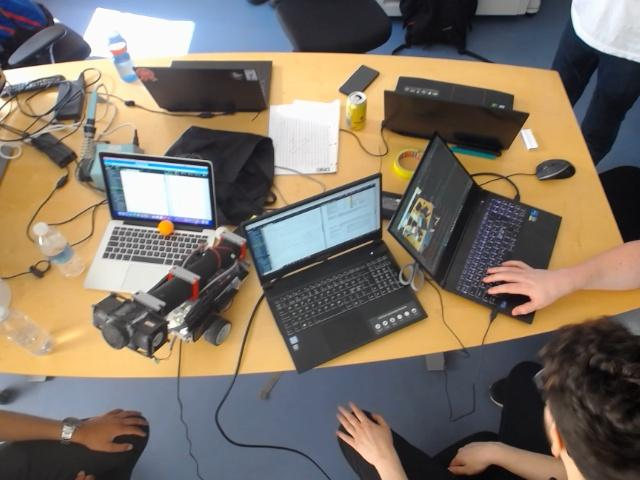orange: (157, 219, 175, 236)
robot: (92, 220, 263, 358)
